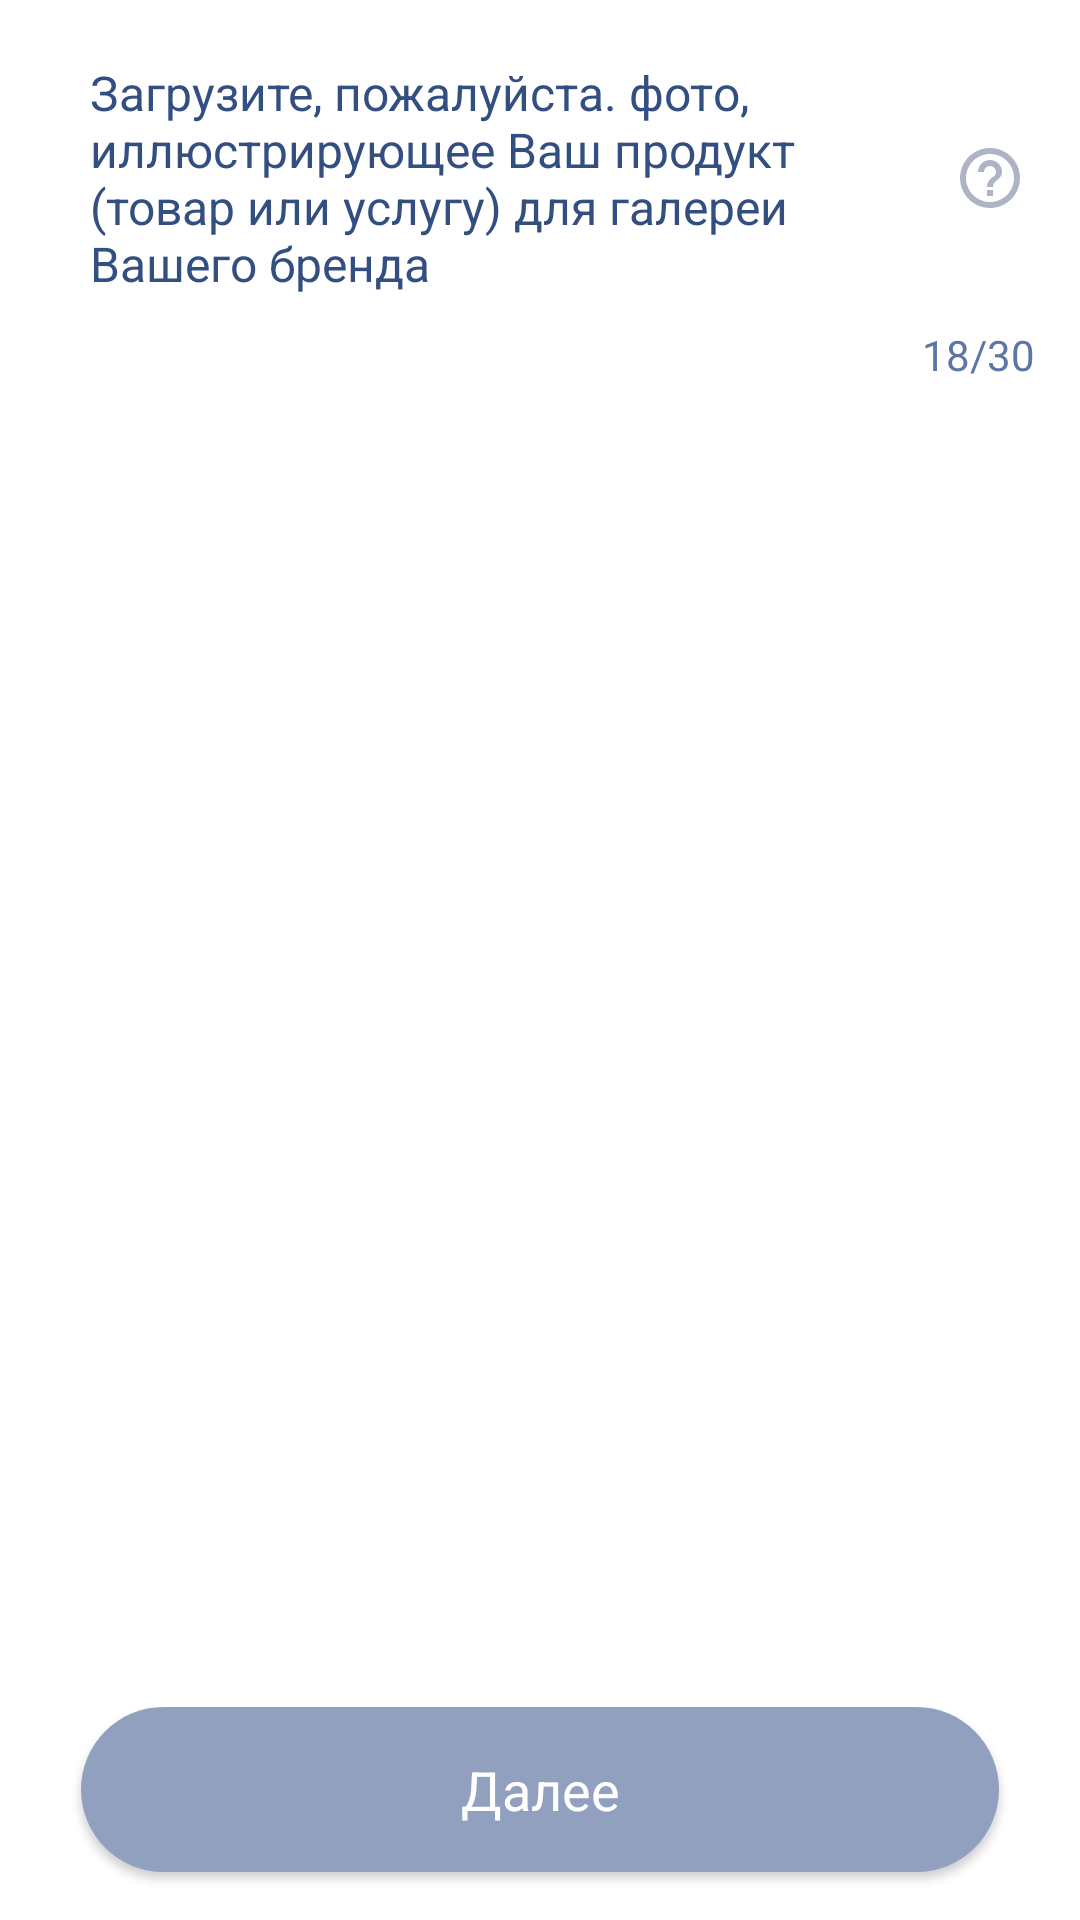

Icons on this 1080 x 1920 Android screen, each with its box as (x1, y1, x2, y2):
help: (960, 148, 1020, 208)
